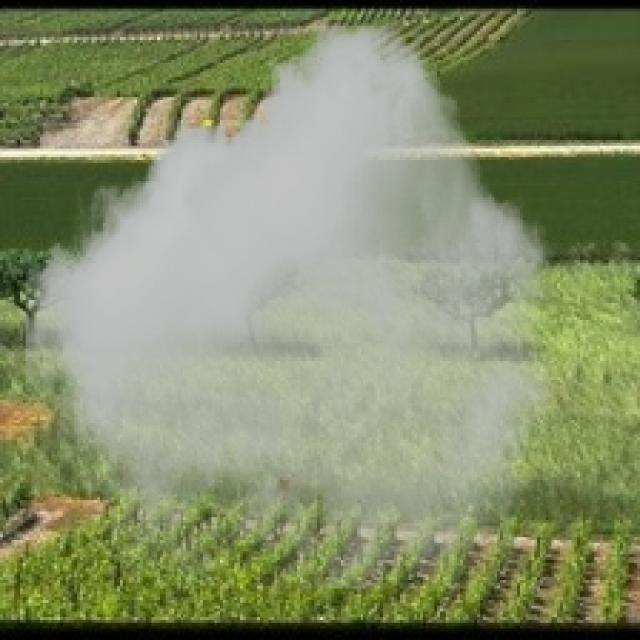smoke: (26, 23, 554, 588)
